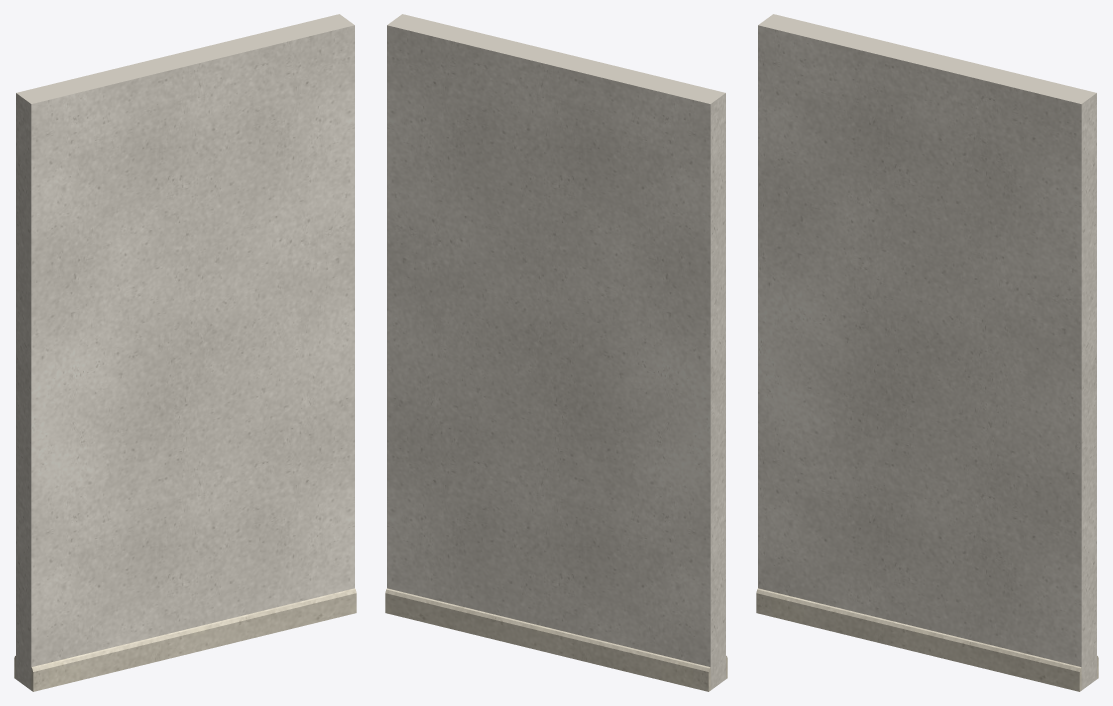
Rendered from iw_end_plain.glb.
3 renders of one model, left to right at view 1: azimuth 30°, elevation 25°; view 2: azimuth 150°, elevation 25°; view 3: azimuth 330°, elevation 25°, orthographic.
Parts seen in each view (by area): view 1: iw_end_plain_plaster, iw_end_plain_trim; view 2: iw_end_plain_plaster, iw_end_plain_trim; view 3: iw_end_plain_plaster, iw_end_plain_trim.
Part boxes in pixels (box(x1,y1,x2,y2)): iw_end_plain_plaster: box(16, 14, 354, 690); iw_end_plain_trim: box(14, 588, 356, 691); iw_end_plain_plaster: box(387, 14, 725, 690); iw_end_plain_trim: box(385, 588, 727, 691); iw_end_plain_plaster: box(758, 14, 1096, 690); iw_end_plain_trim: box(756, 588, 1098, 691).
Bounding box in the file's own units: 1.7 × 2.94 × 0.172.
2 materials, 2 textured.
